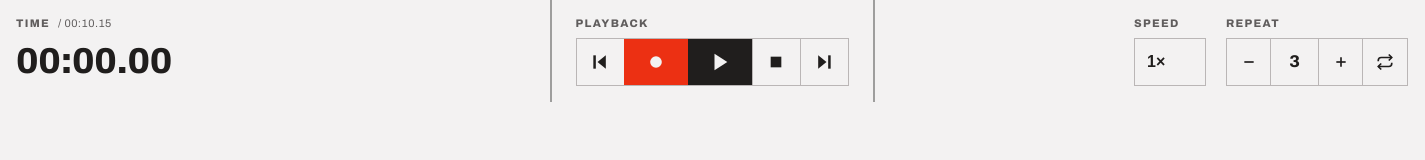
Test case: Transport › mid: the speed is one button that cycles
Click the button named "Speed 1×".
click(1170, 62)  # box [1134, 38, 1206, 86]
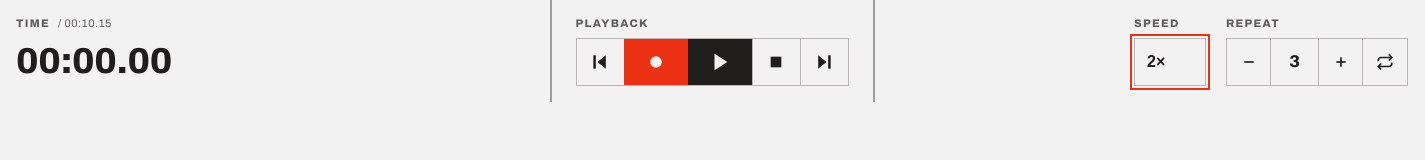
Expected: the button named "Fewer repeats" is shown, [1226, 39, 1270, 85]
Expected: the button named "Speed 2×" is shown, [1134, 38, 1206, 86]
